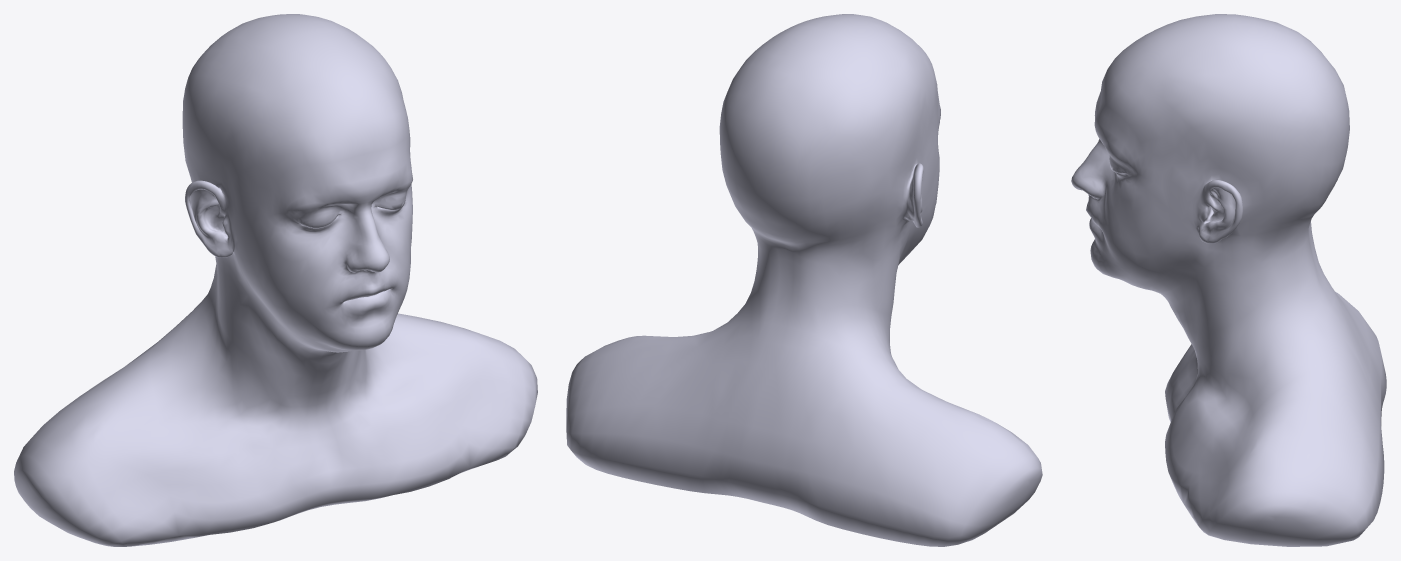
Rendered from LeePerrySmith-optimized.glb.
3 views of the same model, side by side, from view 1: azimuth 30°, elevation 25°; view 2: azimuth 150°, elevation 25°; view 3: azimuth 270°, elevation 25° (orthographic). The views are drawn at different scales.
Parts seen in each view (by area): view 1: LeePerrySmith; view 2: LeePerrySmith; view 3: LeePerrySmith.
Part boxes in pixels (x1=…): LeePerrySmith: x1=14, y1=14, x2=537, y2=546; LeePerrySmith: x1=566, y1=14, x2=1042, y2=546; LeePerrySmith: x1=1071, y1=14, x2=1386, y2=546.
Bounding box in the file's own units: 8.55 × 7.95 × 5.18.
